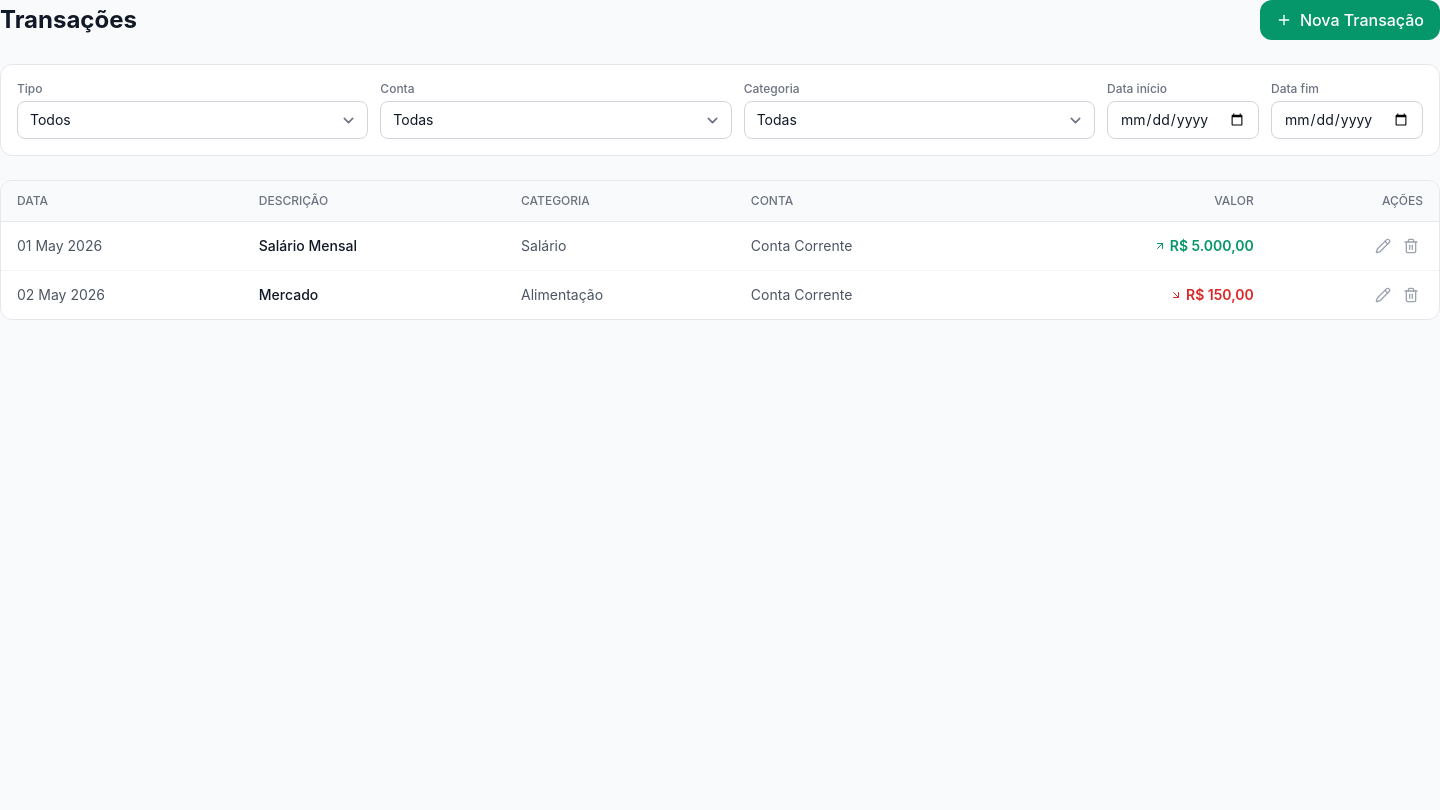
Test case: Página de Transações › abre modal de nova transação
The width and height of the screenshot is (1440, 810).
Click the button "Nova Transação" at (1350, 20), box top-left (1260, 0), bottom-right (1439, 40)
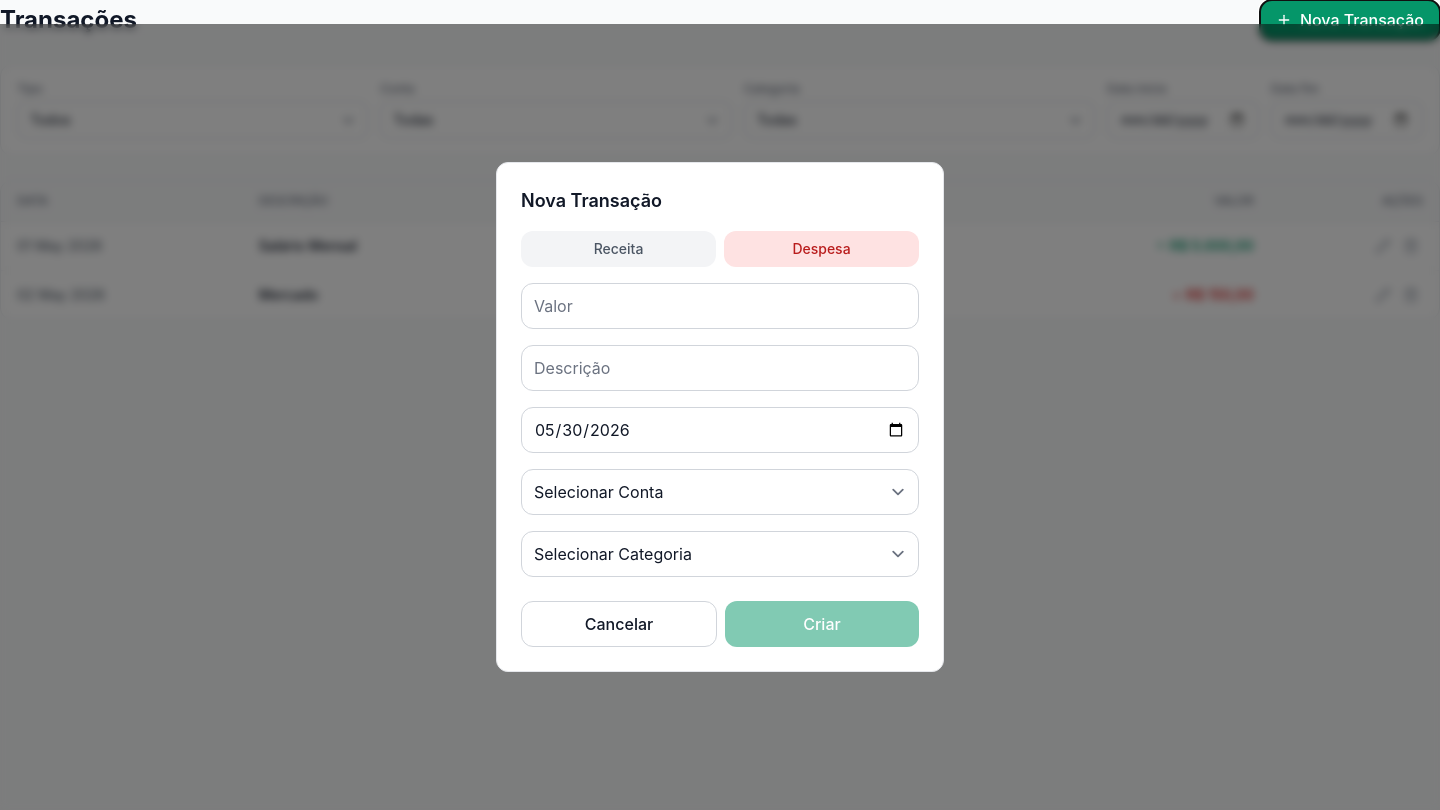
Result: the heading "Nova Transação" is shown at top-left (521, 190), bottom-right (662, 211)
